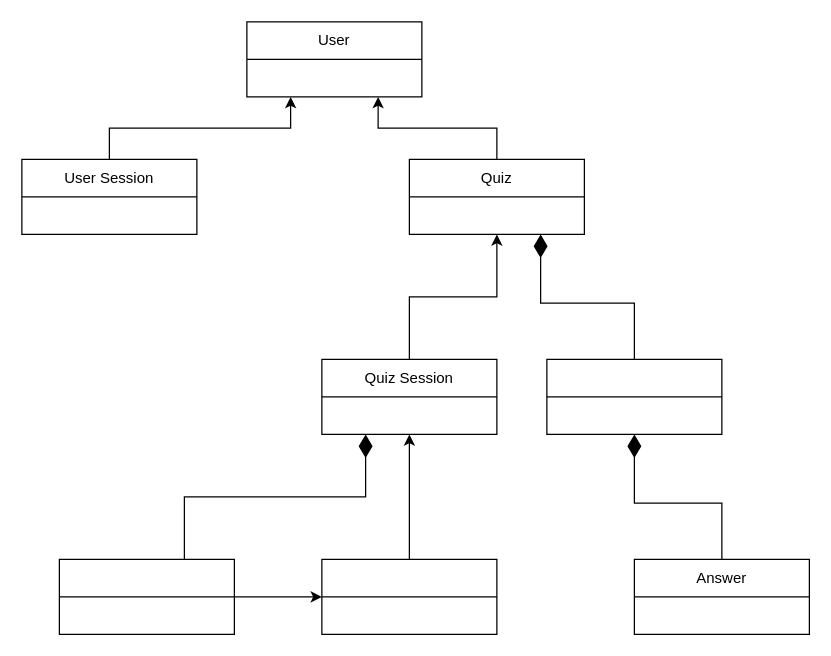
This 831x656 diagram has some shape labels left out. Each missing label, with the centre of its shape:
Message: point 146,596
Player: point 409,596
Question: point 634,396
